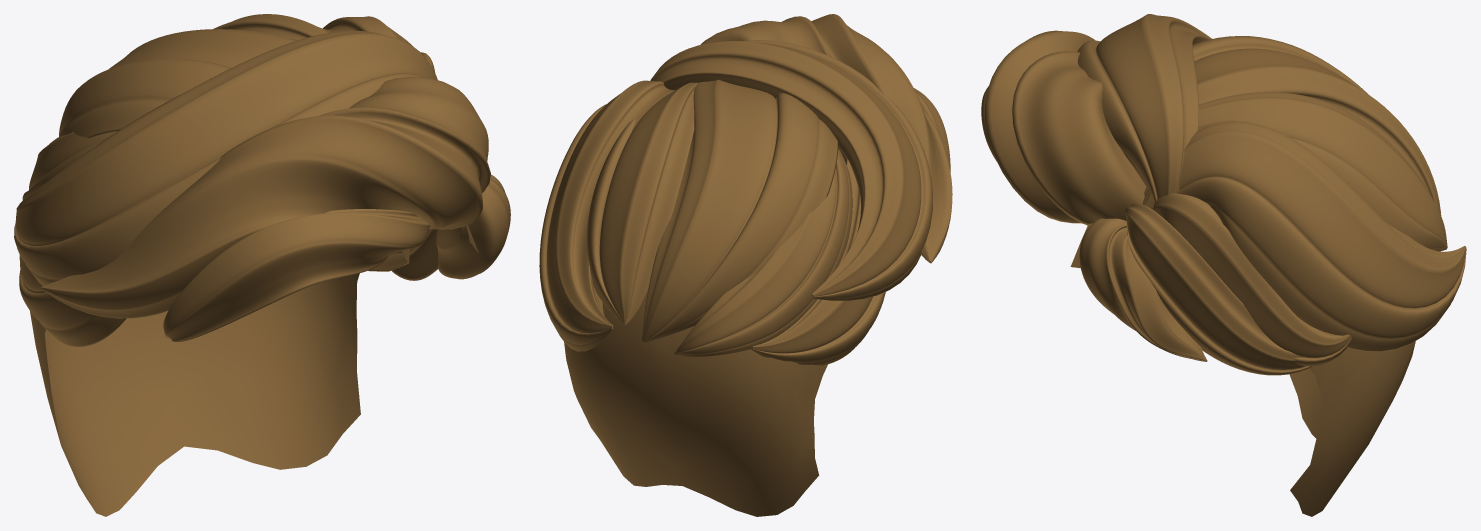
File: Hair03.glb
3 views of the same model, side by side, from view 1: azimuth 30°, elevation 25°; view 2: azimuth 150°, elevation 25°; view 3: azimuth 270°, elevation 25° (orthographic). The views are drawn at different scales.
Parts seen in each view (by area): view 1: hair3_male; view 2: hair3_male; view 3: hair3_male.
Part boxes in pixels (x1,y1,x2,y2): hair3_male: (14, 14, 510, 516); hair3_male: (539, 14, 952, 516); hair3_male: (981, 14, 1466, 516).
Bounding box in the file's own units: 0.3875 × 0.4445 × 0.4414.
